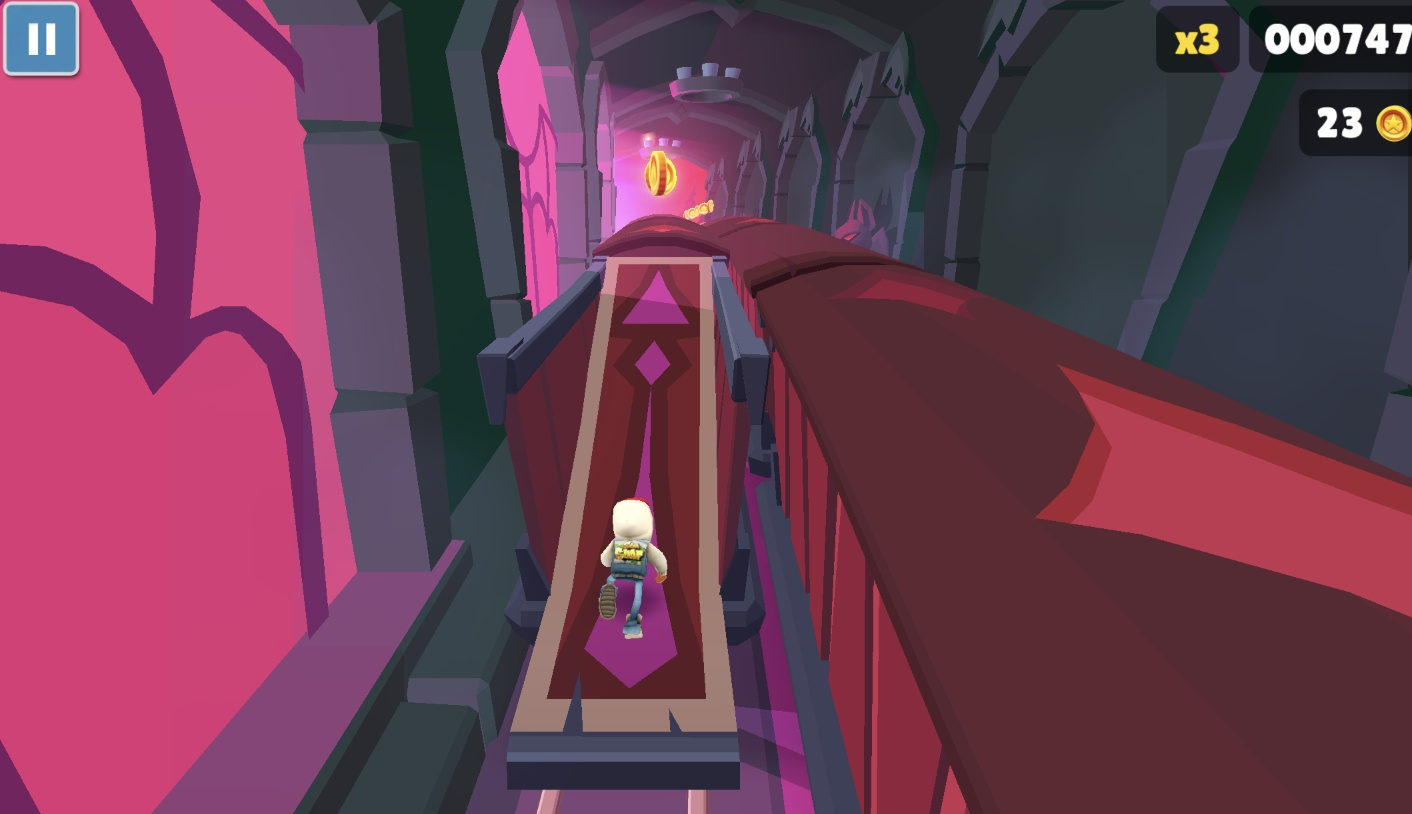train: (692, 218, 1412, 814), (474, 223, 792, 785)
